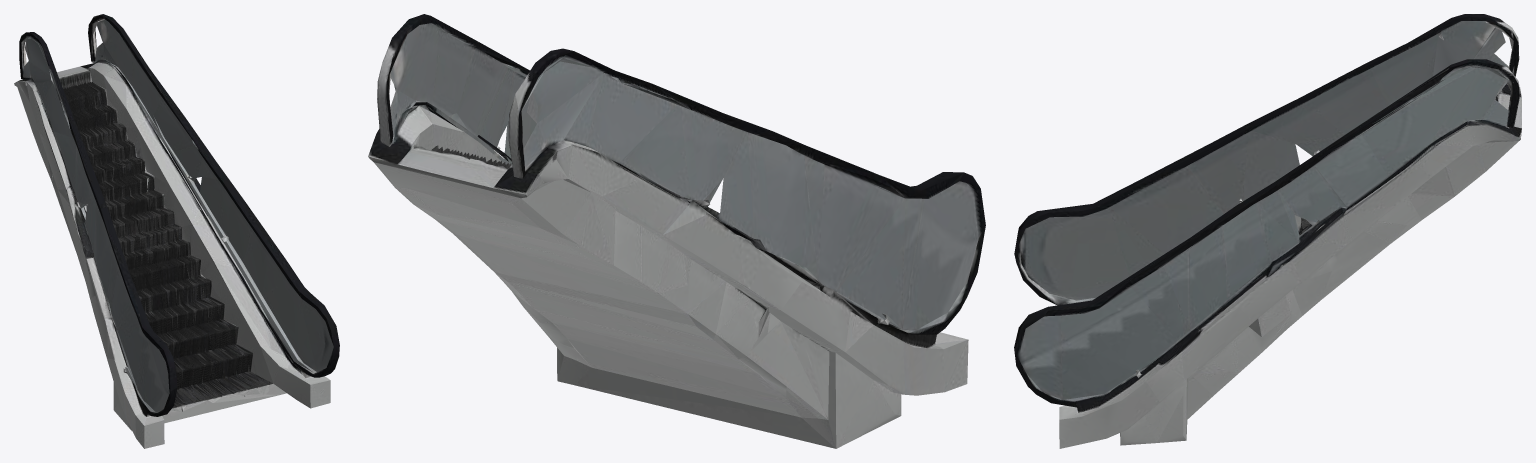
The model's file is mall_escalator.glb.
3 views of the same model, side by side, from view 1: azimuth 30°, elevation 25°; view 2: azimuth 150°, elevation 25°; view 3: azimuth 270°, elevation 25° (orthographic). The views are drawn at different scales.
Visible parts, largest first — view 1: mall_escalator; view 2: mall_escalator; view 3: mall_escalator.
Boxes of the visible parts, left/top/right/bottom form: mall_escalator: left=14, top=14, right=339, bottom=448; mall_escalator: left=368, top=14, right=985, bottom=448; mall_escalator: left=1014, top=14, right=1521, bottom=448.
Size of the model in its own units: 3.87 by 5.6 by 7.2.
Materials: 1 (1 with a texture image).
